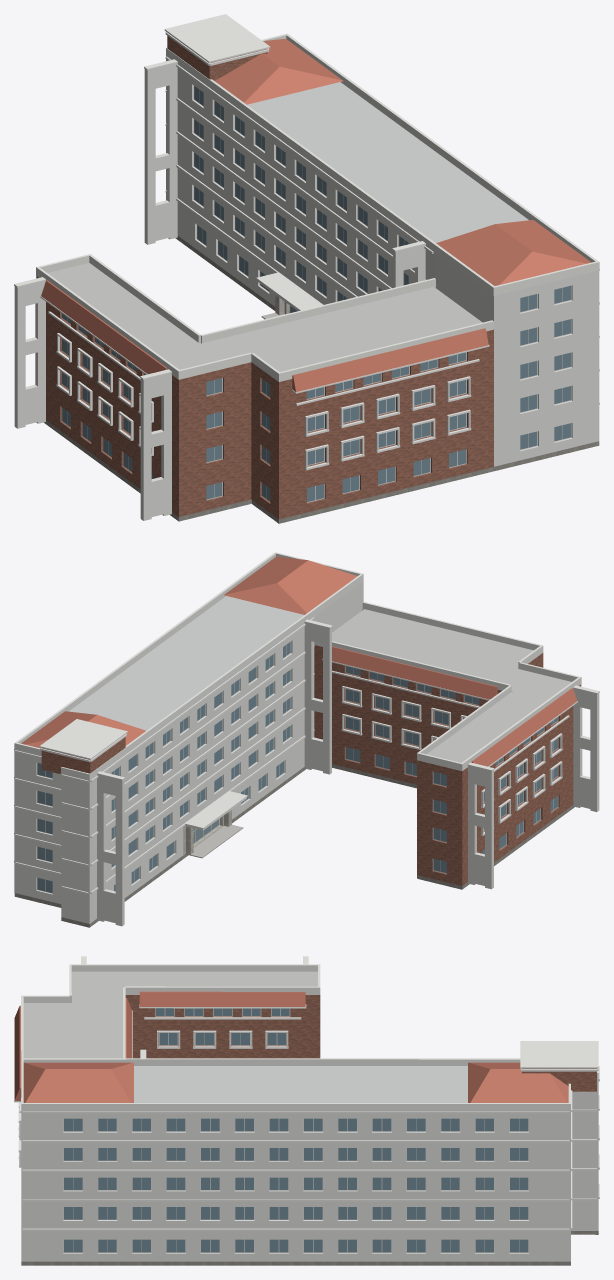
3 views of the same model, one above another, from view 1: azimuth 30°, elevation 25°; view 2: azimuth 150°, elevation 25°; view 3: azimuth 270°, elevation 25° (orthographic). The views are drawn at different scales.
Visible parts, largest first — view 1: huimang__brick, huimang__rearwall, huimang__cap, huimang__highroof, huimang__tileroof, huimang__roof, huimang__glass, huimang__wingwall, huimang__trim, huimang__frame, huimang__plinth, huimang__foundation; view 2: huimang__rearwall, huimang__brick, huimang__cap, huimang__wingwall, huimang__highroof, huimang__roof, huimang__tileroof, huimang__glass, huimang__trim, huimang__frame, huimang__plinth, huimang__threshold-west (+2 smaller); view 3: huimang__rearwall, huimang__glass, huimang__cap, huimang__highroof, huimang__tileroof, huimang__trim, huimang__roof, huimang__brick, huimang__frame, huimang__plinth, huimang__foundation.
Boxes of the visible parts, bbox=[...] form: huimang__brick: bbox=[36, 36, 493, 519]; huimang__rearwall: bbox=[166, 59, 599, 466]; huimang__cap: bbox=[14, 14, 599, 393]; huimang__highroof: bbox=[247, 82, 528, 242]; huimang__tileroof: bbox=[41, 39, 591, 392]; huimang__roof: bbox=[48, 263, 482, 371]; huimang__glass: bbox=[62, 86, 571, 501]; huimang__wingwall: bbox=[14, 63, 493, 520]; huimang__trim: bbox=[48, 32, 599, 470]; huimang__frame: bbox=[61, 86, 571, 502]; huimang__plinth: bbox=[45, 236, 599, 522]; huimang__foundation: bbox=[44, 238, 599, 523]; huimang__rearwall: bbox=[14, 619, 314, 923]; huimang__brick: bbox=[41, 609, 581, 885]; huimang__cap: bbox=[14, 552, 599, 828]; huimang__wingwall: bbox=[97, 581, 599, 926]; huimang__highroof: bbox=[69, 596, 304, 730]; huimang__roof: bbox=[332, 609, 571, 762]; huimang__tileroof: bbox=[21, 556, 576, 766]; huimang__glass: bbox=[37, 642, 557, 892]; huimang__trim: bbox=[14, 617, 569, 894]; huimang__frame: bbox=[37, 641, 558, 893]; huimang__plinth: bbox=[15, 764, 573, 926]; huimang__threshold-west: bbox=[186, 824, 243, 858]; huimang__rearwall: bbox=[21, 1080, 598, 1261]; huimang__glass: bbox=[64, 1008, 528, 1252]; huimang__cap: bbox=[14, 956, 598, 1111]; huimang__highroof: bbox=[134, 1066, 467, 1102]; huimang__tileroof: bbox=[14, 991, 568, 1102]; huimang__trim: bbox=[18, 1017, 599, 1230]; huimang__roof: bbox=[23, 971, 317, 1058]; huimang__brick: bbox=[125, 995, 596, 1091]; huimang__frame: bbox=[63, 1008, 528, 1252]; huimang__plinth: bbox=[21, 1231, 598, 1264]; huimang__foundation: bbox=[21, 1231, 598, 1265].
Size of the model in its own units: 47.73 by 21.84 by 64.92.
16 materials, 6 textured.
